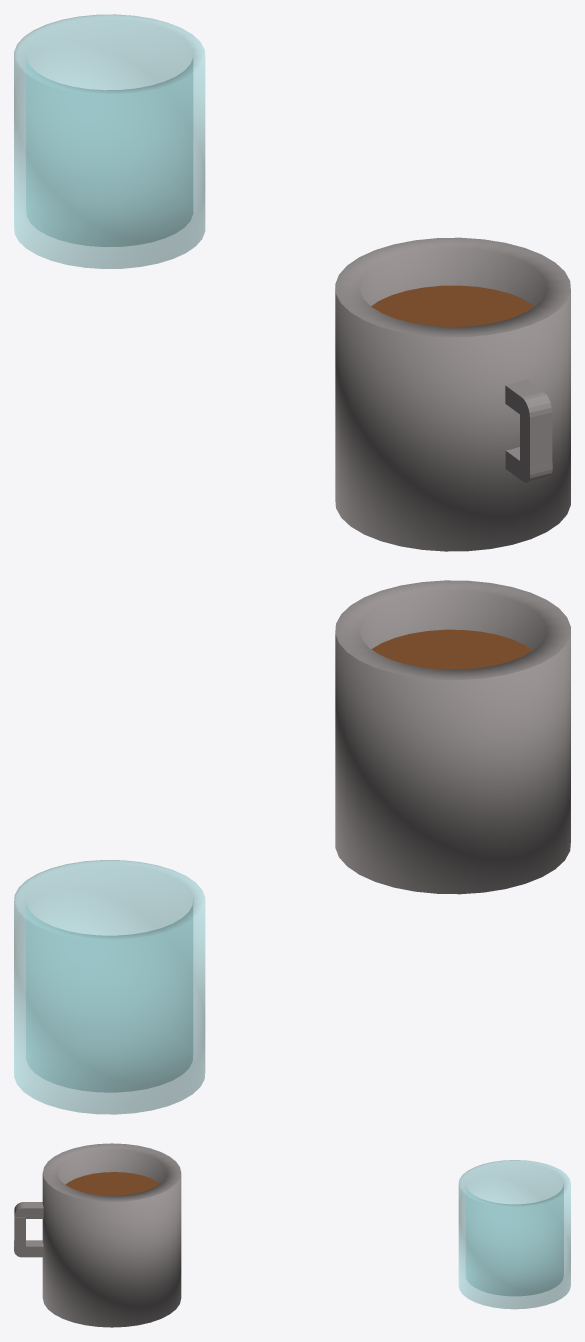
Rendered from CoffeMugAndGlass.fbx.
3 renders of one model, top to bottom at view 1: azimuth 30°, elevation 25°; view 2: azimuth 150°, elevation 25°; view 3: azimuth 270°, elevation 25°, orthographic. The views are drawn at different scales.
Parts seen in each view (by area): view 1: Cup, GlassCup, Coffee; view 2: Cup, GlassCup, Coffee; view 3: Cup, GlassCup, Coffee.
Boxes of the visible parts, bbox=[...] form: Cup: bbox=[335, 237, 570, 551]; GlassCup: bbox=[14, 14, 205, 268]; Coffee: bbox=[371, 285, 533, 326]; Cup: bbox=[335, 580, 570, 894]; GlassCup: bbox=[14, 860, 205, 1114]; Coffee: bbox=[372, 629, 532, 669]; Cup: bbox=[14, 1143, 181, 1327]; GlassCup: bbox=[458, 1160, 570, 1309]; Coffee: bbox=[65, 1172, 159, 1195].
Size of the model in its own units: 200 by 200 by 804.
